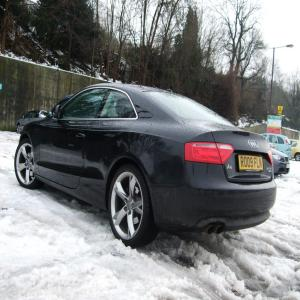Vehicle-registration-plate: (243, 155, 273, 181)
